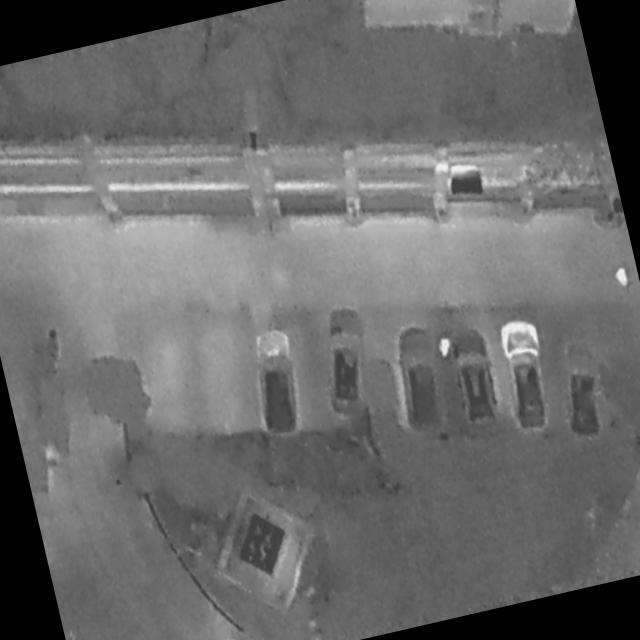person: (432, 331, 458, 362), (612, 264, 632, 292)
